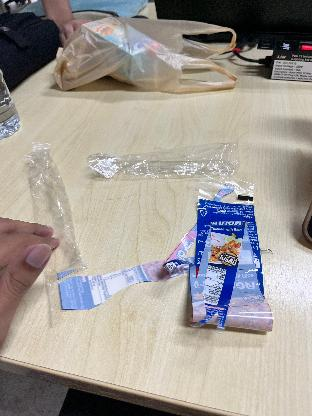Others: (149, 185, 277, 351), (81, 126, 248, 192), (21, 150, 89, 274)
